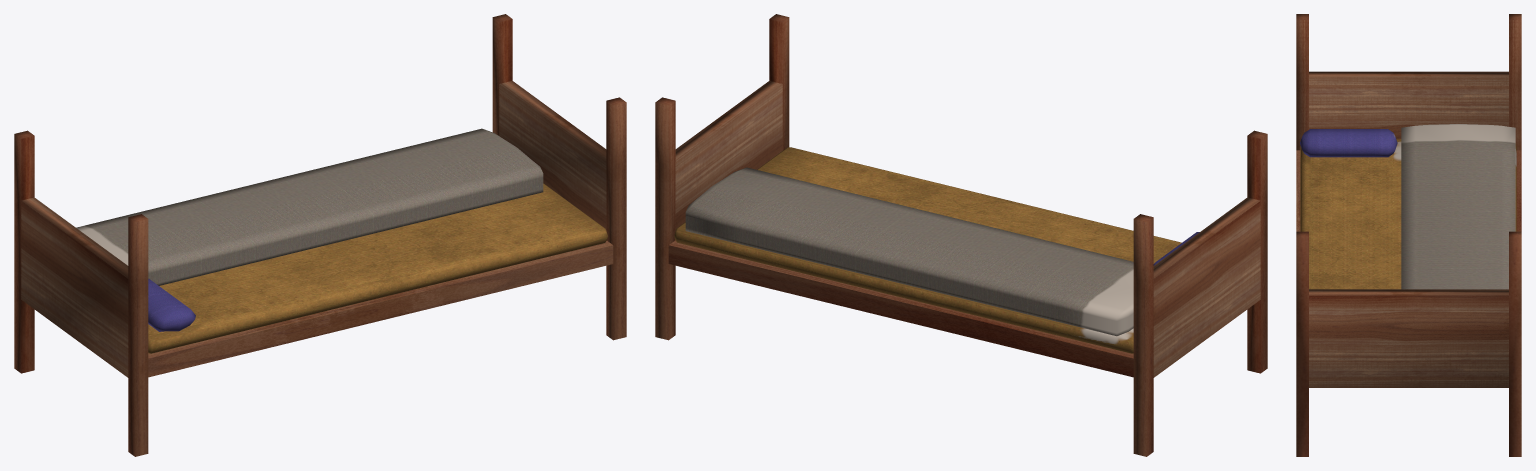
File: Bed_3.FBX
The picture shows the model from 3 angles, left to right: view 1: azimuth 30°, elevation 25°; view 2: azimuth 150°, elevation 25°; view 3: azimuth 270°, elevation 25°; orthographic projection. The views are drawn at different scales.
Parts seen in each view (by area): view 1: Bed_3; view 2: Bed_3; view 3: Bed_3.
Boxes of the visible parts, left/top/right/bottom form: Bed_3: left=14, top=14, right=626, bottom=456; Bed_3: left=655, top=14, right=1267, bottom=456; Bed_3: left=1296, top=14, right=1521, bottom=456.
Size of the model in its own units: 83.24 by 38 by 35.43.
